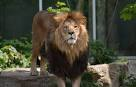lion: (29, 10, 87, 87)
